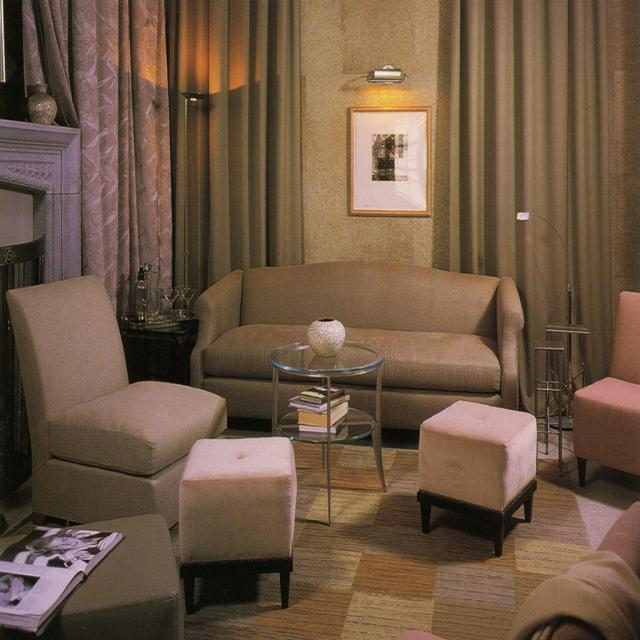2017: (164, 287, 178, 318), (181, 287, 195, 313)
blanket: (501, 546, 637, 638)
book case: (0, 521, 121, 634)
chair -occluded-: (571, 289, 638, 485)
coffee table: (268, 338, 388, 522)
couch -x: (189, 258, 525, 426)
couch cusions: (595, 499, 638, 568)
curtains: (447, 2, 612, 414), (165, 1, 304, 292), (302, 0, 446, 267)
cushy chair: (8, 272, 228, 529)
end table: (542, 320, 588, 428), (531, 338, 563, 477)
fireplace tools: (1, 118, 81, 280)
floor lamp occluded: (179, 88, 208, 288)
lamp crop: (516, 208, 571, 428)
ottoman: (175, 435, 298, 614), (416, 396, 537, 557), (58, 515, 184, 635)
picture crop: (348, 106, 431, 216)
rug -partially obscured-: (191, 432, 588, 638)
seltzer bottle: (135, 262, 148, 318)
stack of books: (287, 386, 349, 433)
tray occluded: (122, 308, 176, 325)
urn: (23, 81, 58, 123)
vase -X: (306, 315, 343, 355)
wall clock: (608, 0, 638, 336)
wall light: (363, 60, 406, 84)
